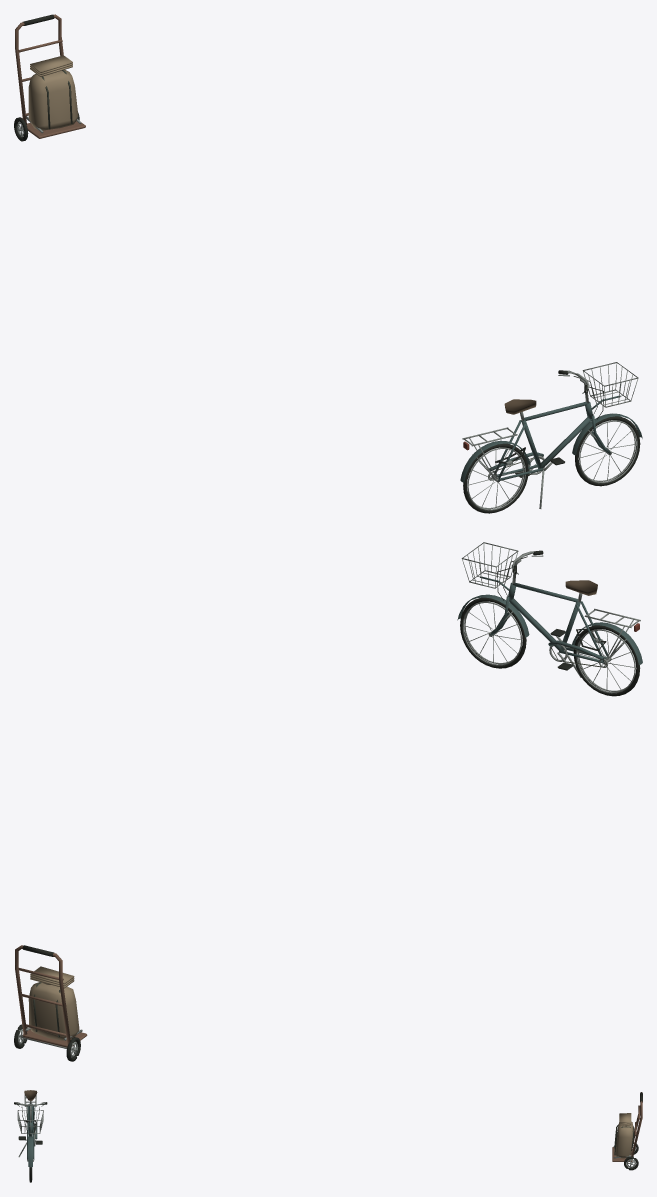
The model's file is life-props.glb.
3 views of the same model, one above another, from view 1: azimuth 30°, elevation 25°; view 2: azimuth 150°, elevation 25°; view 3: azimuth 270°, elevation 25° (orthographic). The views are drawn at different scales.
Parts seen in each view (by area): view 1: Bicycle - Dull zinc spokes and exposed metal, Hand truck - Photo grain canvas sack, Bicycle - Faded blue commuter enamel, Bicycle - Worn rubber tyres and grips, Hand truck - Oxidized hand truck enamel; view 2: Bicycle - Dull zinc spokes and exposed metal, Bicycle - Faded blue commuter enamel, Hand truck - Photo grain canvas sack, Bicycle - Worn rubber tyres and grips, Hand truck - Oxidized hand truck enamel; view 3: Hand truck - Photo grain canvas sack, Bicycle - Dull zinc spokes and exposed metal, Bicycle - Faded blue commuter enamel, Hand truck - Oxidized hand truck enamel, Bicycle - Worn rubber tyres and grips, Hand truck - Worn rubber tyres and grips.
Boxes of the visible parts, x1,y1,x2,y2 form: Bicycle - Dull zinc spokes and exposed metal: (462, 362, 638, 510); Hand truck - Photo grain canvas sack: (28, 55, 78, 130); Bicycle - Faded blue commuter enamel: (460, 395, 642, 482); Bicycle - Worn rubber tyres and grips: (463, 370, 640, 513); Hand truck - Oxidized hand truck enamel: (15, 14, 85, 138); Bicycle - Dull zinc spokes and exposed metal: (461, 542, 640, 693); Bicycle - Faded blue commuter enamel: (457, 576, 642, 665); Hand truck - Photo grain canvas sack: (28, 966, 79, 1040); Bicycle - Worn rubber tyres and grips: (460, 550, 640, 696); Hand truck - Oxidized hand truck enamel: (15, 945, 87, 1047); Hand truck - Photo grain canvas sack: (615, 1113, 633, 1158); Bicycle - Dull zinc spokes and exposed metal: (16, 1094, 45, 1180); Bicycle - Faded blue commuter enamel: (27, 1103, 37, 1167); Hand truck - Oxidized hand truck enamel: (612, 1092, 642, 1161); Bicycle - Worn rubber tyres and grips: (14, 1102, 47, 1182); Hand truck - Worn rubber tyres and grips: (624, 1092, 642, 1170).
Size of the model in its own units: 1.71 by 1.04 by 8.6.
8 materials, 1 textured.
